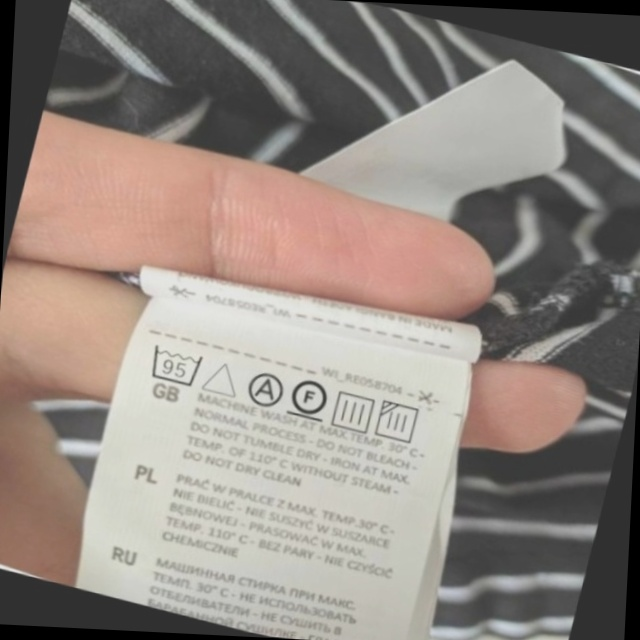95C: (144, 340, 208, 391)
bleach: (201, 353, 244, 402)
drip_dry: (327, 386, 380, 437)
drip_dry_in_shade: (373, 396, 427, 449)
dry_clean: (242, 367, 288, 411)
dry_clean_petrol_only: (286, 371, 334, 425)
